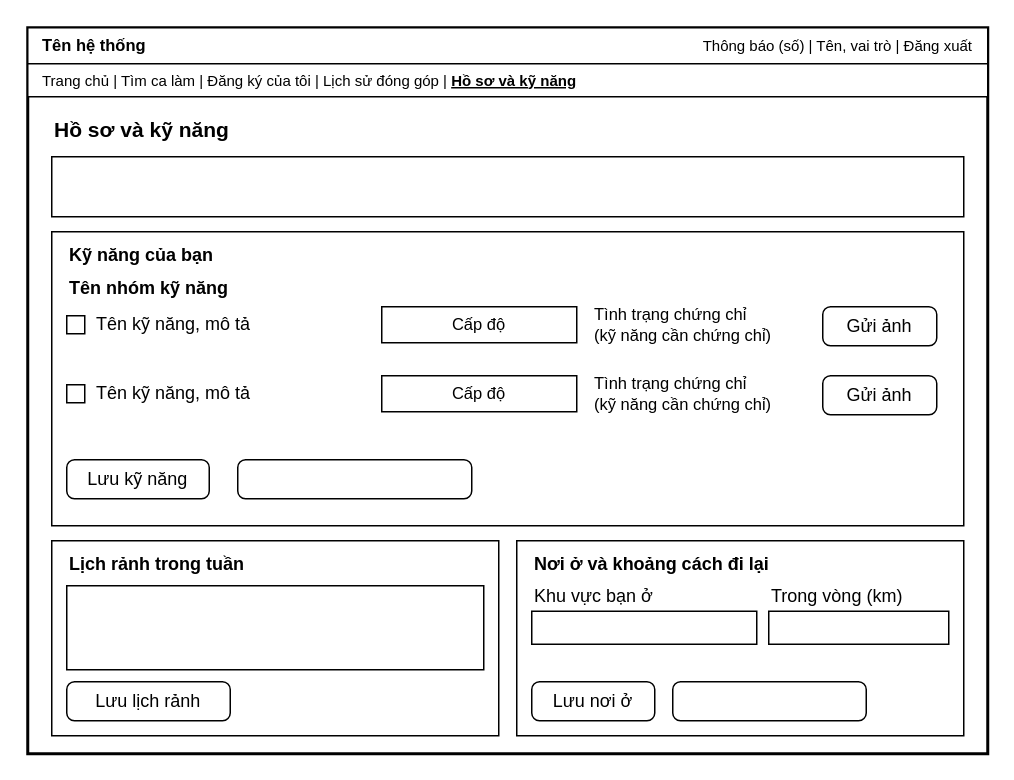
This 1014x780 diagram has some shape labels left out. The box of each missing label's shape, as (x1, y1, x2, y2) in pixels:
Bảng 7 ngày x 3 buổi (sáng, chiều, tối): (65, 584, 484, 670)
Chọn trên bản đồ: (671, 680, 866, 721)
Họ tên, kỹ năng đã lưu, mức tin cậy điểm danh. Đi tới: Kỹ năng, Lịch rảnh, Nơi ở: (50, 155, 964, 217)
Đề xuất thêm kỹ năng: (236, 458, 472, 499)
